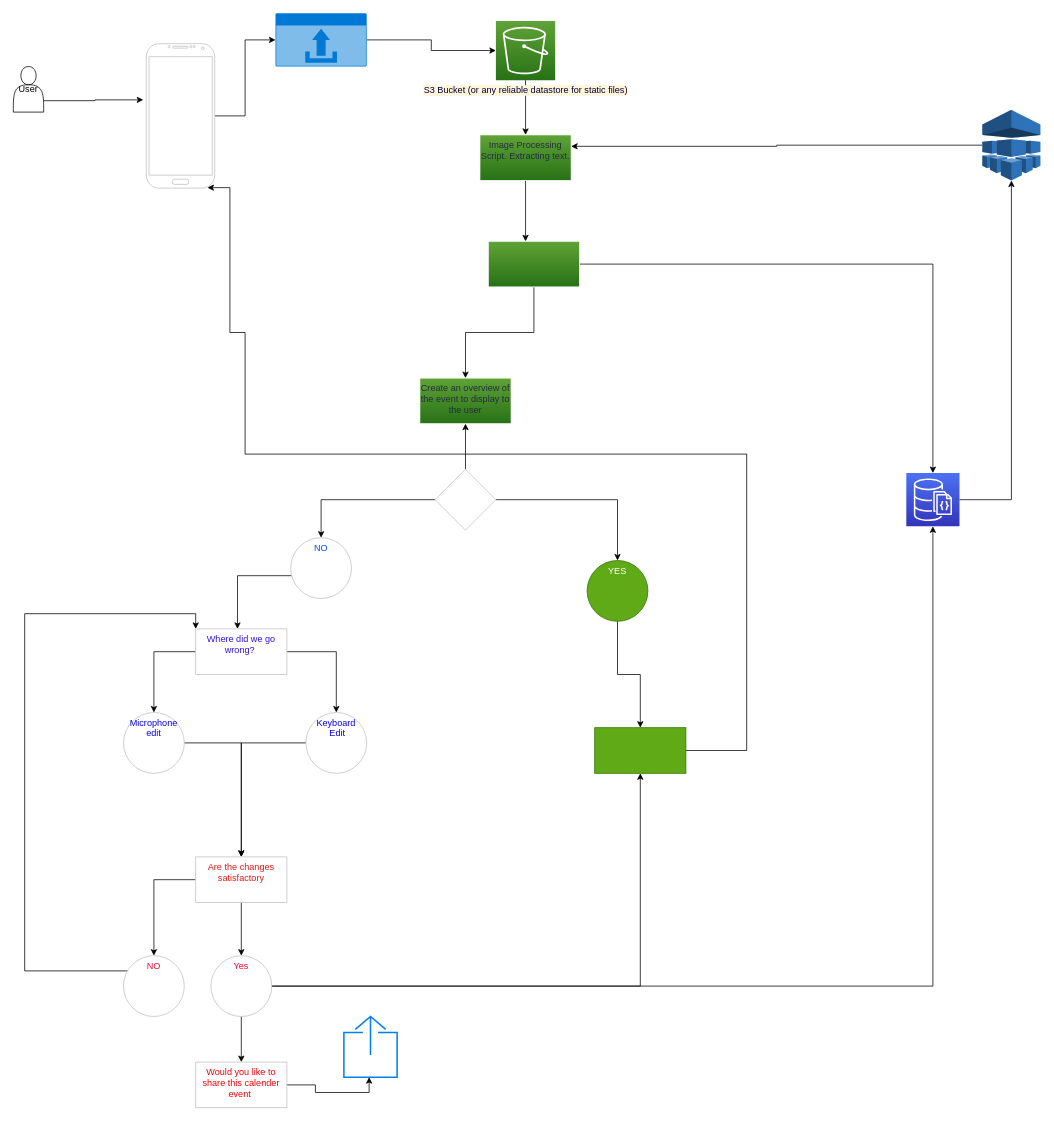
The diagram is 1054 pixels wide and 1121 high, and some of its shapes have lost their labels. Each missing label, with the box of its shape:
Ask for perms to add to calendar: (594, 727, 686, 773)
Does this the event look corect?: (434, 469, 496, 530)
ML model: (982, 109, 1040, 180)
Outputting a Calendar file: (488, 241, 580, 287)
Upload: (275, 13, 366, 66)
User History Flyer Generation: (906, 472, 960, 526)
